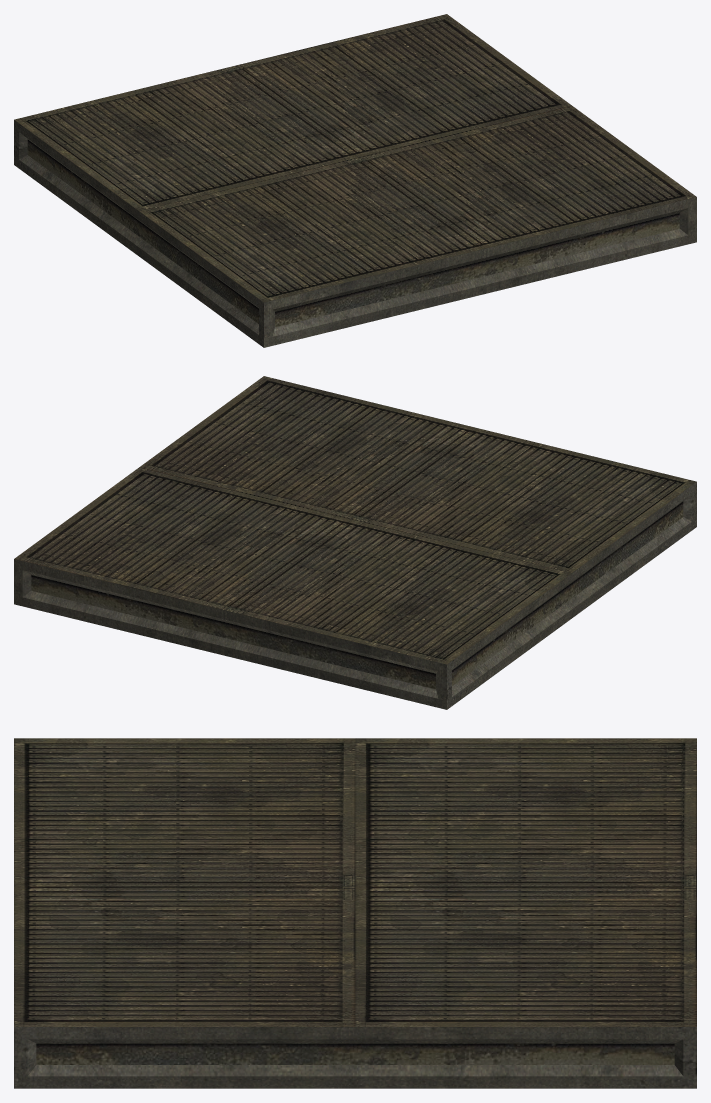
Rendered from floor_ceiling_hy_1.obj.
The picture shows the model from 3 angles, top to bottom: view 1: azimuth 30°, elevation 25°; view 2: azimuth 150°, elevation 25°; view 3: azimuth 270°, elevation 25°; orthographic projection. The views are drawn at different scales.
Parts seen in each view (by area): view 1: floor_ceiling_hy_1; view 2: floor_ceiling_hy_1; view 3: floor_ceiling_hy_1.
Boxes of the visible parts, x1,y1,x2,y2 form: floor_ceiling_hy_1: (14, 14, 696, 347); floor_ceiling_hy_1: (14, 376, 696, 709); floor_ceiling_hy_1: (14, 738, 696, 1088).
Size of the model in its own units: 4 by 0.4 by 4.
